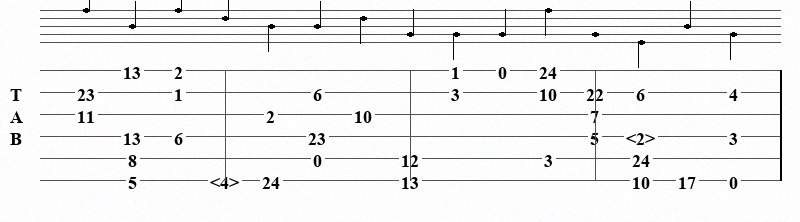0: (313, 150, 326, 166), (498, 62, 511, 78), (729, 172, 742, 188)
1: (174, 84, 187, 100), (451, 62, 464, 78)
10: (354, 106, 376, 122), (539, 84, 561, 100), (632, 172, 654, 188)
11: (77, 106, 99, 122)
12: (401, 150, 423, 166)
13: (123, 128, 145, 144), (123, 62, 145, 78), (401, 172, 423, 188)
17: (678, 172, 700, 188)
2: (174, 62, 187, 78), (266, 106, 279, 122)
22: (586, 84, 608, 100)
23: (77, 84, 99, 100), (308, 128, 330, 144)
24: (262, 172, 284, 188), (539, 62, 561, 78), (632, 150, 654, 166)
3: (451, 84, 464, 100), (544, 150, 557, 166), (729, 128, 742, 144)
4: (729, 84, 742, 100)
5: (128, 172, 141, 188), (590, 128, 603, 144)
6: (174, 128, 187, 144), (313, 84, 326, 100), (636, 84, 649, 100)
7: (590, 106, 603, 122)
8: (128, 150, 141, 166)
harmonic: (210, 172, 243, 188), (626, 128, 659, 144)
